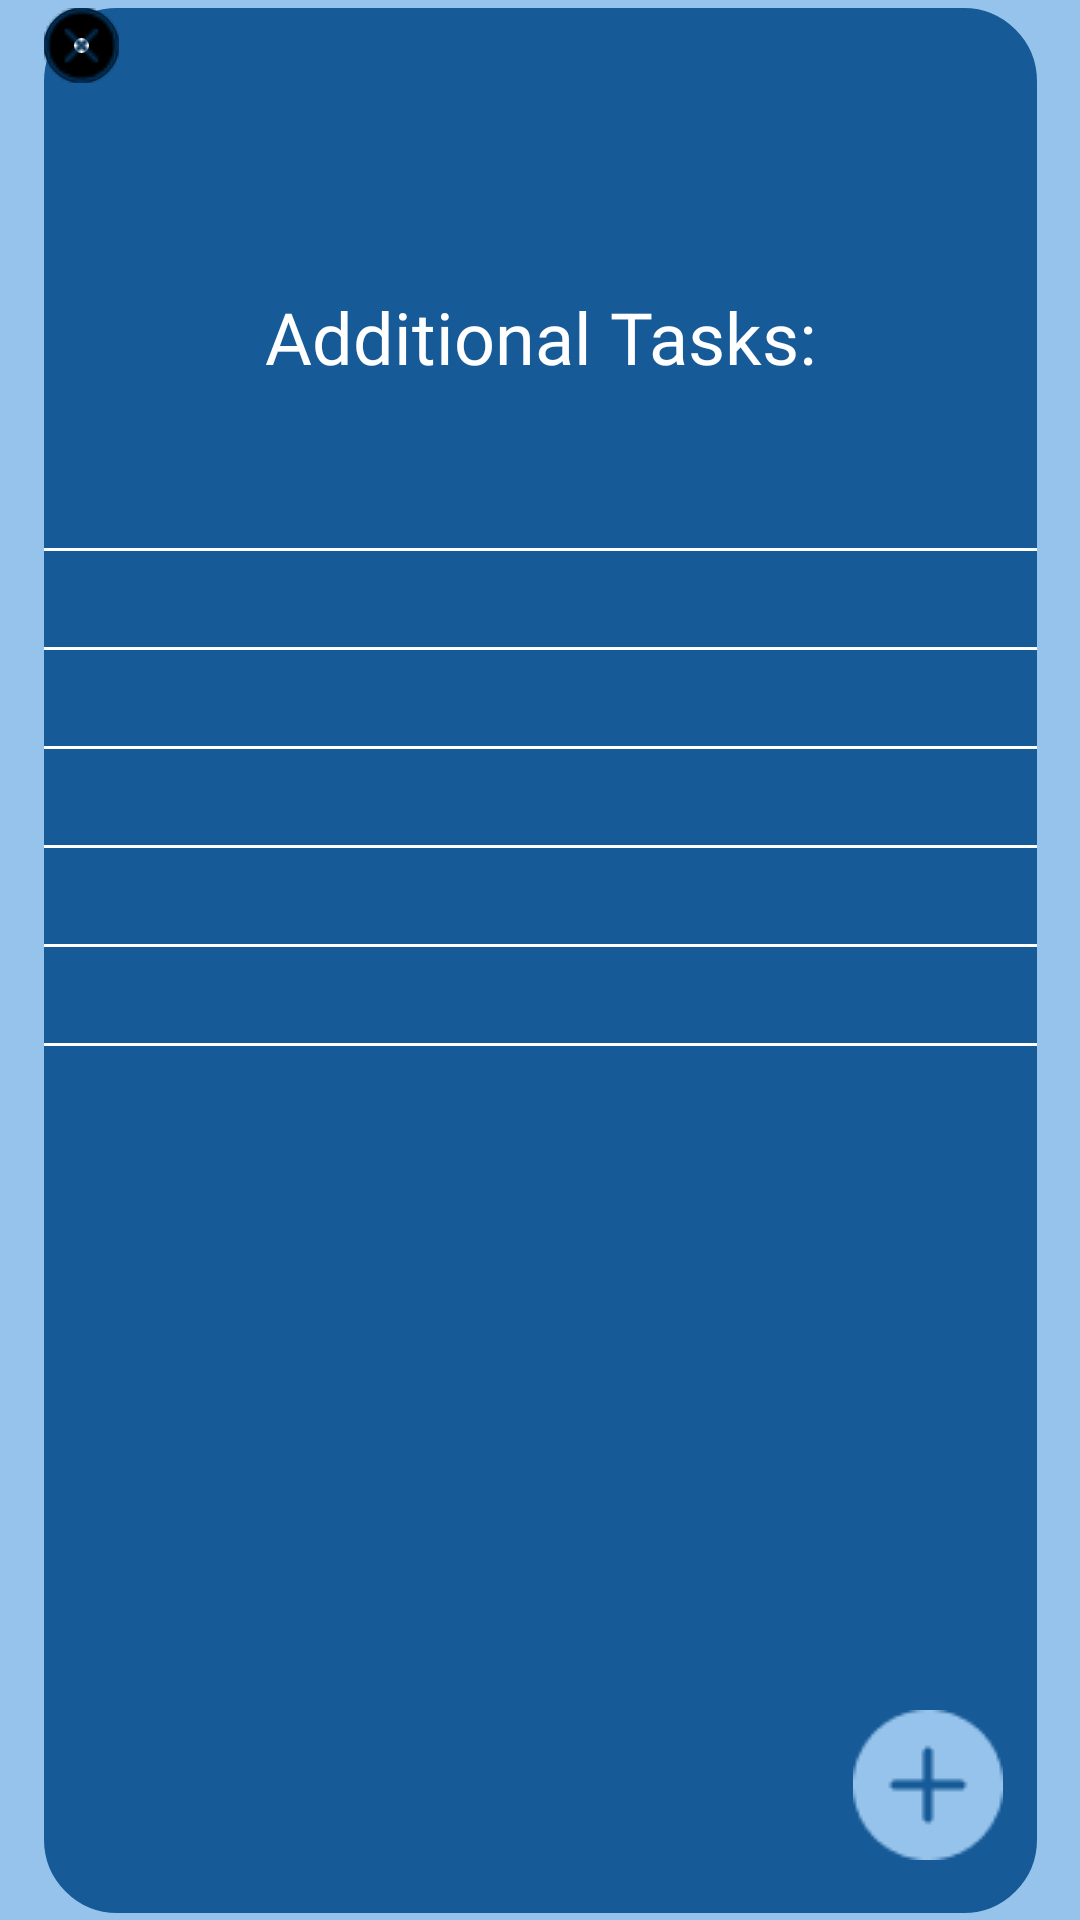

Named icons in this screenshot (1080*1920) and their centers, point (x, y):
add task: point (928, 1785)
exit: point (81, 45)
